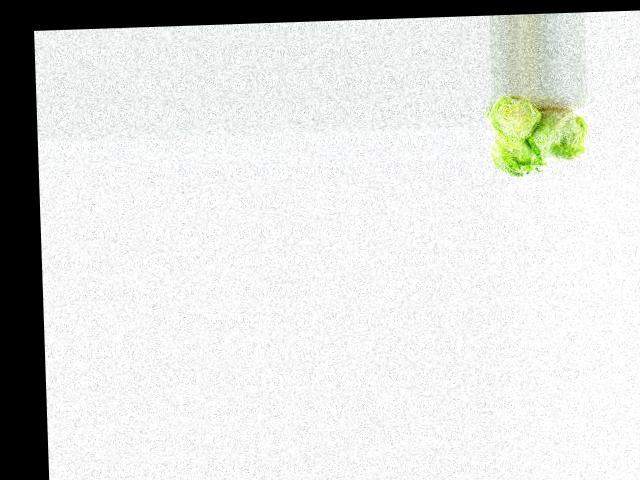lettuce: (488, 132, 550, 182)
